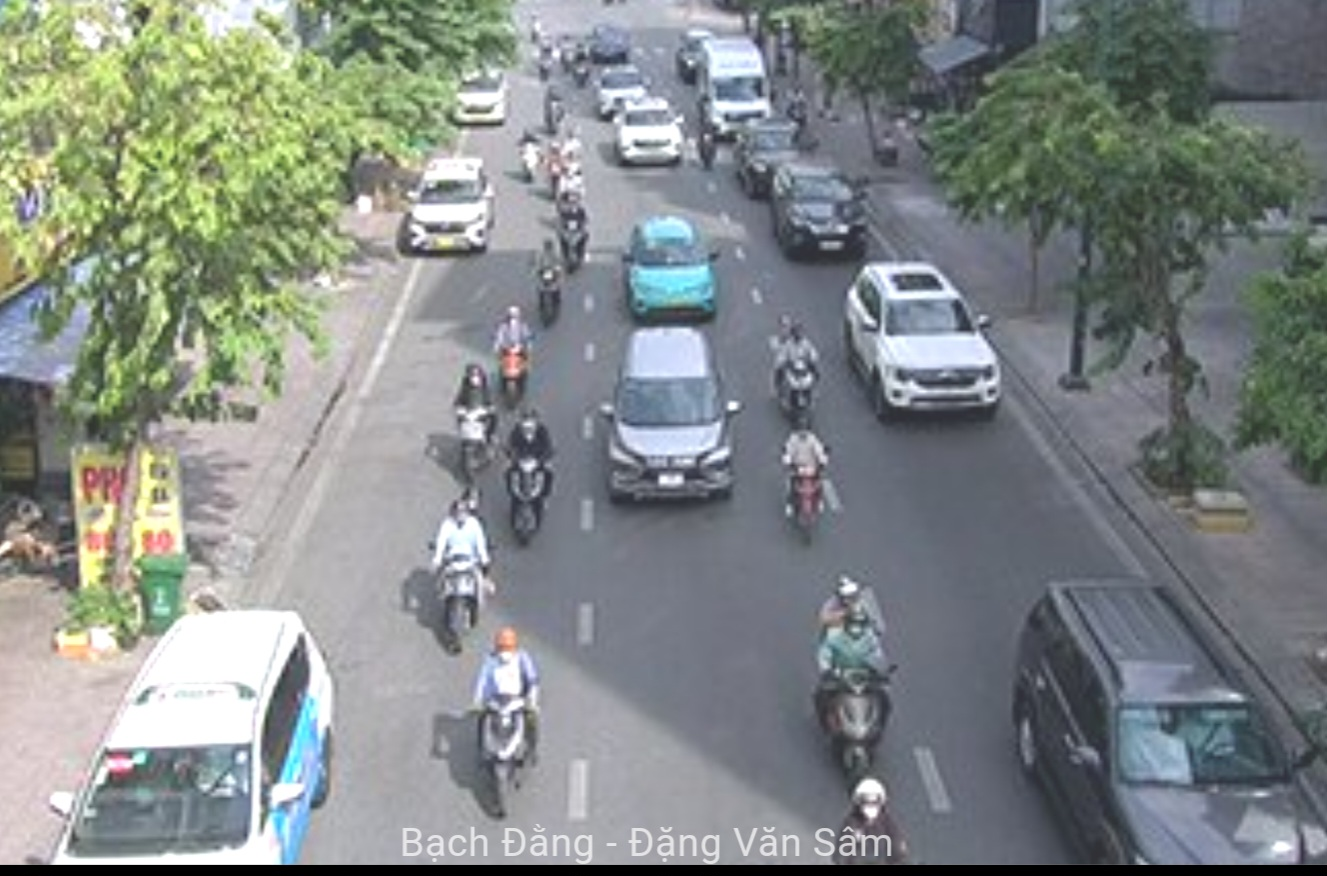car: (1011, 590, 1327, 876), (56, 618, 337, 876), (606, 330, 742, 509), (846, 267, 1002, 421), (623, 221, 723, 330), (773, 164, 868, 258), (408, 161, 496, 253), (701, 46, 768, 134), (743, 120, 808, 193), (614, 102, 684, 167), (454, 67, 509, 129)
